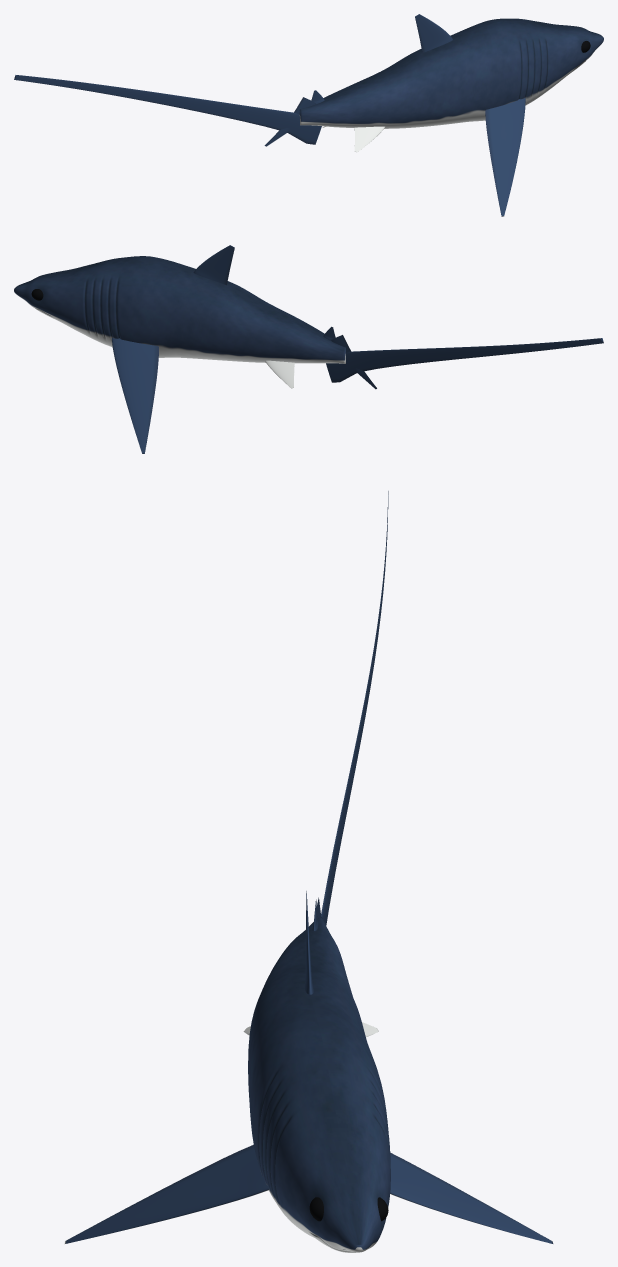
File: pelagic_thresher.glb
The picture shows the model from 3 angles, top to bottom: view 1: azimuth 30°, elevation 25°; view 2: azimuth 150°, elevation 25°; view 3: azimuth 270°, elevation 25°; orthographic projection. The views are drawn at different scales.
Visible parts, largest first — view 1: PelagicThresher_Body, PelagicThresher_Fins; view 2: PelagicThresher_Body, PelagicThresher_Fins; view 3: PelagicThresher_Body, PelagicThresher_Fins.
Part boxes in pixels (x1,y1,x2,y2): PelagicThresher_Body: (299, 18, 603, 128); PelagicThresher_Fins: (14, 14, 525, 216); PelagicThresher_Body: (14, 256, 345, 363); PelagicThresher_Fins: (112, 245, 603, 453); PelagicThresher_Body: (248, 917, 390, 1252); PelagicThresher_Fins: (64, 491, 553, 1243).
Bounding box in the file's own units: 3 × 0.8967 × 1.09.
3 materials, 1 textured.
